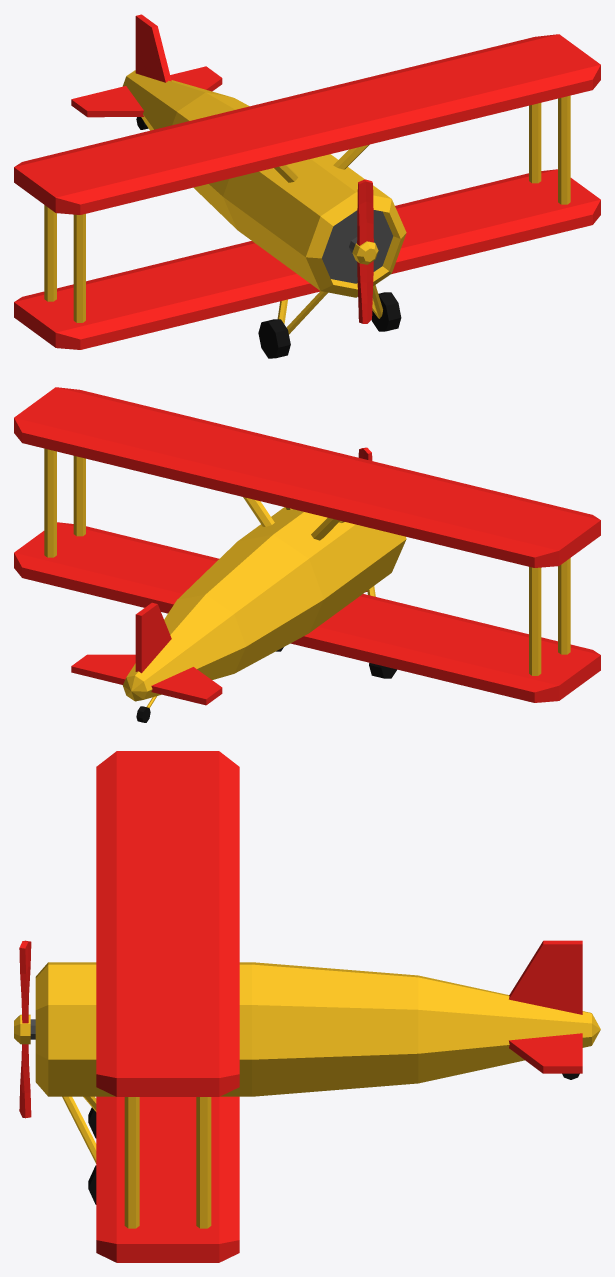
Rendered from biplane-131.glb.
3 renders of one model, top to bottom at view 1: azimuth 30°, elevation 25°; view 2: azimuth 150°, elevation 25°; view 3: azimuth 270°, elevation 25°, orthographic. The views are drawn at different scales.
Visible parts, largest first — view 1: Low Poly Biplane Body, Low Poly Biplane Propeller; view 2: Low Poly Biplane Body; view 3: Low Poly Biplane Body, Low Poly Biplane Propeller.
Part boxes in pixels (left/top/right/bottom): Low Poly Biplane Body: left=14, top=14, right=600, bottom=358; Low Poly Biplane Propeller: left=349, top=179, right=378, bottom=323; Low Poly Biplane Body: left=14, top=387, right=600, bottom=722; Low Poly Biplane Body: left=35, top=751, right=600, bottom=1262; Low Poly Biplane Propeller: left=14, top=940, right=35, bottom=1118.
Size of the model in its own units: 5.66 by 2.1 by 4.29.
